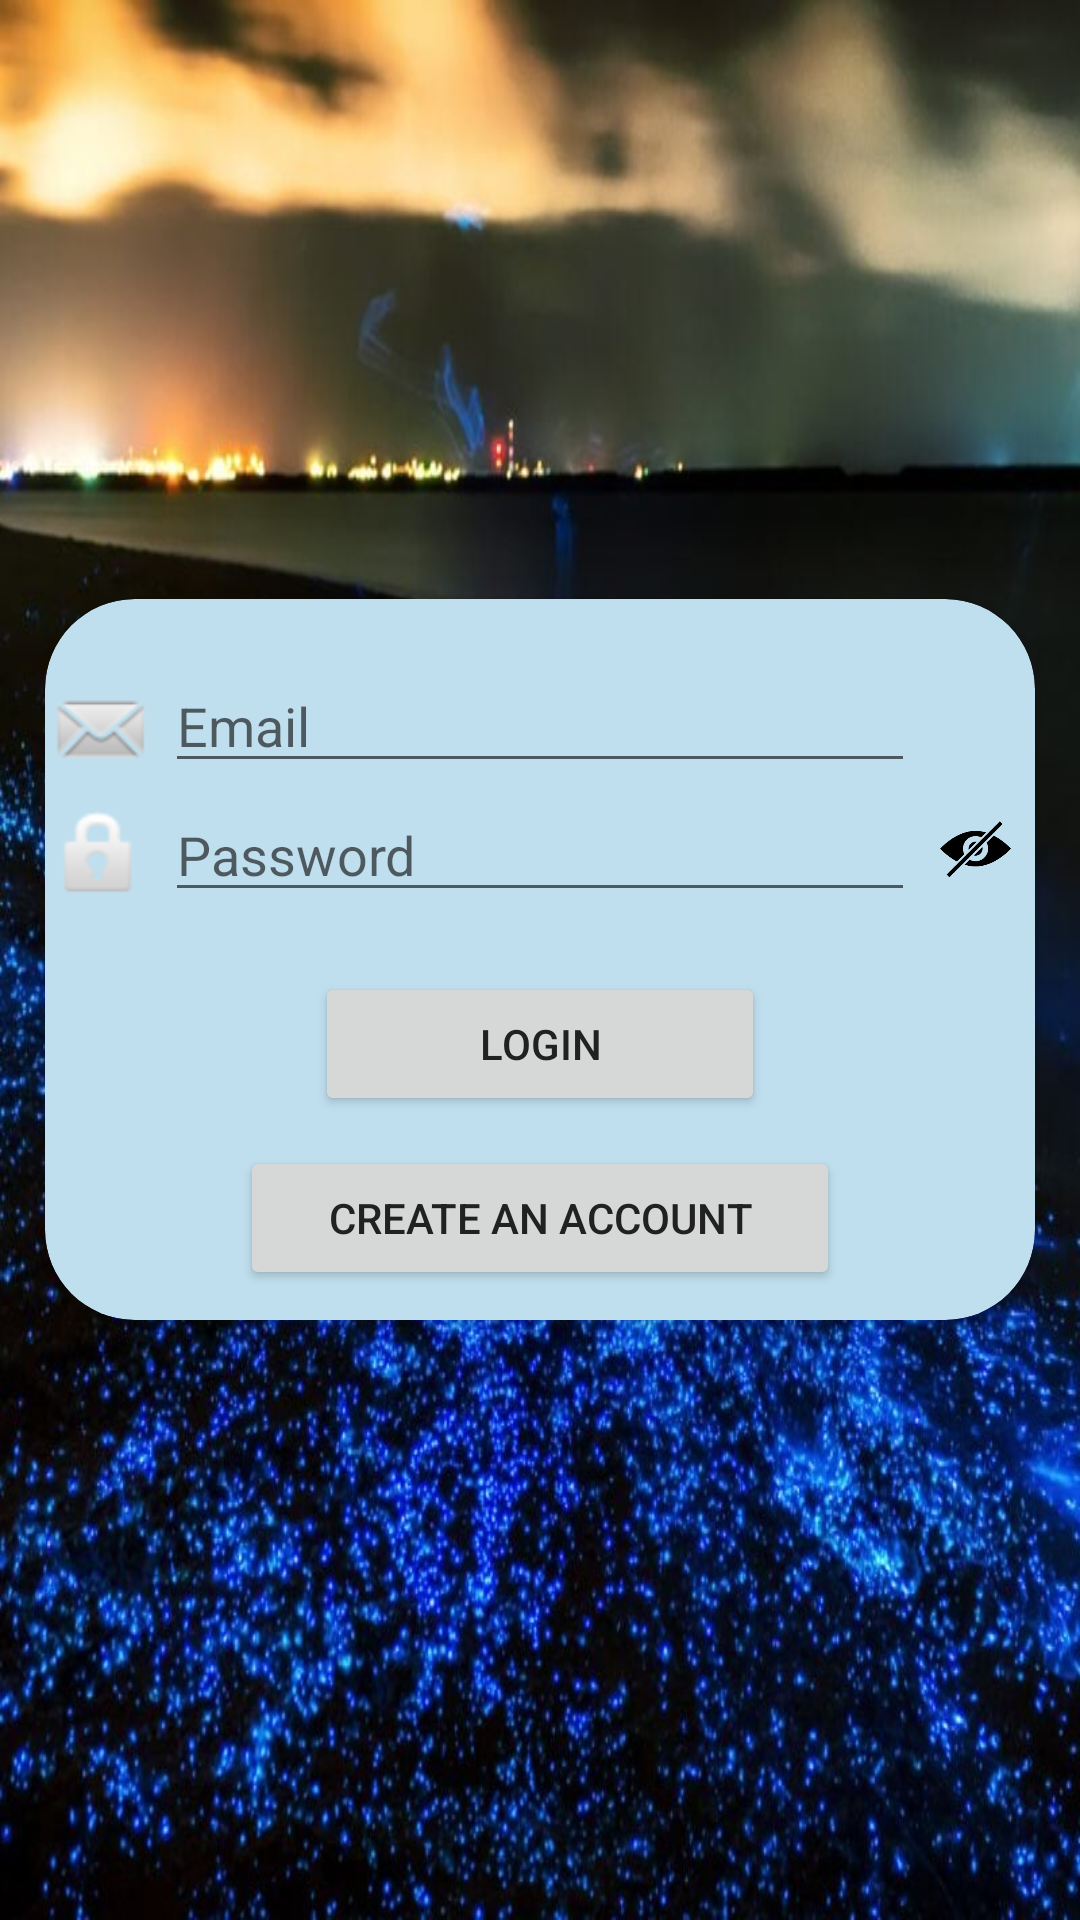

Where icons sit on this 1080px x 1920px app screen, as (x1=x1, y1=y1, x2=x2, y2=y2):
lock idle: (x1=65, y1=813, x2=130, y2=891)
pwdhide: (x1=940, y1=821, x2=1011, y2=877)
